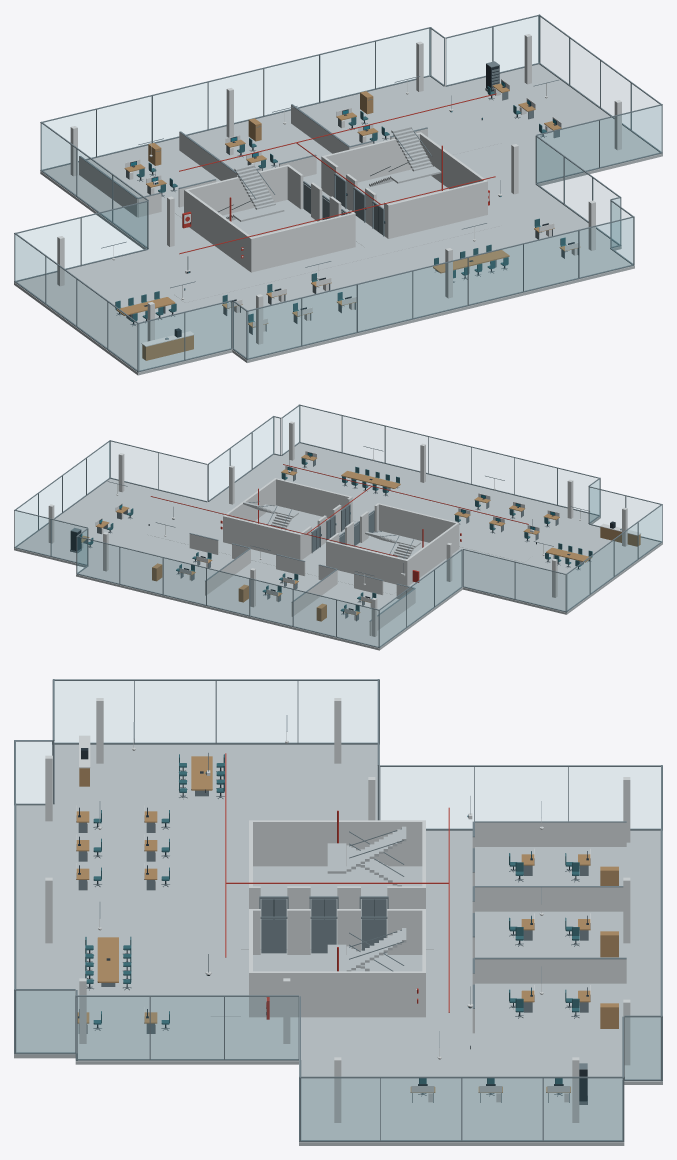
3 views of the same model, one above another, from view 1: azimuth 30°, elevation 25°; view 2: azimuth 150°, elevation 25°; view 3: azimuth 270°, elevation 25° (orthographic). The views are drawn at different scales.
Parts seen in each view (by area): view 1: T1_F06_SLAB, T1_F06_WHITE, T1_F06_GLASS_S, T1_F06_GLASS_N, T1_F06_STEEL, T1_F06_GLASS_W, T1_F06_GLASS_E, T1_F06_WOOD, T1_F06_FABRIC, T1_F06_RED, T1_F06_DARK; view 2: T1_F06_SLAB, T1_F06_WHITE, T1_F06_GLASS_N, T1_F06_GLASS_S, T1_F06_STEEL, T1_F06_GLASS_W, T1_F06_GLASS_E, T1_F06_WOOD, T1_F06_FABRIC, T1_F06_RED, T1_F06_DARK; view 3: T1_F06_SLAB, T1_F06_WHITE, T1_F06_GLASS_E, T1_F06_GLASS_W, T1_F06_STEEL, T1_F06_WOOD, T1_F06_FABRIC, T1_F06_RED, T1_F06_DARK.
Part boxes in pixels (<box>): T1_F06_SLAB: <box>14,64,662,375</box>; T1_F06_WHITE: <box>57,34,621,346</box>; T1_F06_GLASS_S: <box>140,106,660,370</box>; T1_F06_GLASS_N: <box>19,17,538,267</box>; T1_F06_STEEL: <box>14,14,662,372</box>; T1_F06_GLASS_W: <box>15,125,245,369</box>; T1_F06_GLASS_E: <box>431,18,657,243</box>; T1_F06_WOOD: <box>116,83,580,360</box>; T1_F06_FABRIC: <box>115,86,566,322</box>; T1_F06_RED: <box>179,93,496,258</box>; T1_F06_DARK: <box>119,64,574,337</box>; T1_F06_SLAB: <box>14,443,662,650</box>; T1_F06_WHITE: <box>48,421,641,636</box>; T1_F06_GLASS_N: <box>15,512,564,646</box>; T1_F06_GLASS_S: <box>110,406,657,527</box>; T1_F06_STEEL: <box>14,404,662,648</box>; T1_F06_GLASS_W: <box>380,480,661,645</box>; T1_F06_GLASS_E: <box>18,408,298,536</box>; T1_F06_WOOD: <box>81,455,640,621</box>; T1_F06_FABRIC: <box>88,458,592,611</box>; T1_F06_RED: <box>150,464,528,582</box>; T1_F06_DARK: <box>70,452,615,613</box>; T1_F06_SLAB: <box>14,744,662,1145</box>; T1_F06_WHITE: <box>45,698,630,1122</box>; T1_F06_GLASS_E: <box>16,991,660,1139</box>; T1_F06_GLASS_W: <box>16,681,660,828</box>; T1_F06_STEEL: <box>14,679,662,1141</box>; T1_F06_WOOD: <box>76,756,618,1092</box>; T1_F06_FABRIC: <box>85,754,579,1083</box>; T1_F06_RED: <box>225,753,449,1019</box>; T1_F06_DARK: <box>78,748,588,1101</box>.
Size of the model in its own units: 55.47 by 4.5 by 38.19.
